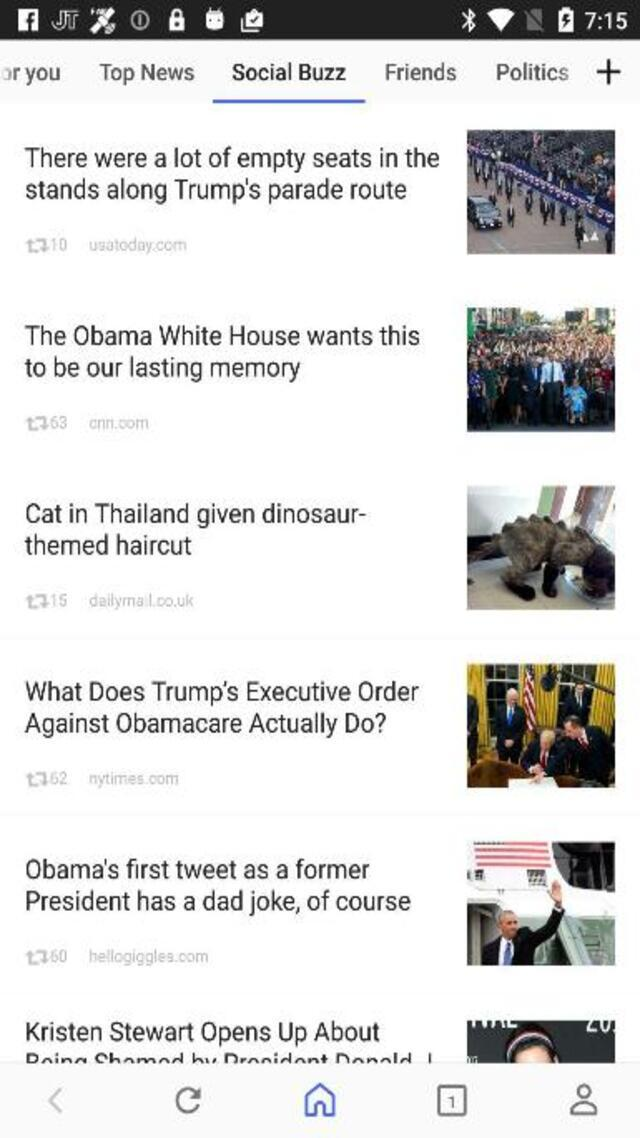Icon: (304, 1082, 334, 1116), (437, 1083, 467, 1115), (570, 1083, 597, 1115), (176, 1087, 200, 1114), (597, 59, 620, 84), (25, 593, 48, 609), (48, 1086, 62, 1112), (24, 238, 49, 252), (26, 949, 49, 964), (25, 416, 48, 430), (25, 772, 48, 786)
Image: (468, 308, 616, 432), (466, 130, 614, 254), (466, 842, 614, 965), (466, 664, 614, 787), (466, 486, 614, 609), (466, 1018, 614, 1062)
Text: (22, 174, 410, 211), (23, 885, 412, 921), (23, 708, 394, 743), (24, 1018, 433, 1048), (22, 144, 444, 172), (20, 678, 427, 706), (23, 322, 424, 350), (23, 500, 370, 530), (23, 352, 303, 386), (20, 856, 409, 880), (21, 532, 198, 562), (232, 61, 346, 81), (90, 948, 210, 966), (99, 64, 194, 85), (89, 592, 194, 610), (90, 238, 186, 254), (90, 771, 178, 787), (497, 62, 568, 80), (386, 62, 456, 80), (0, 66, 60, 87), (90, 418, 150, 428), (50, 592, 66, 606), (50, 949, 66, 961), (50, 771, 66, 783), (50, 416, 66, 428), (50, 238, 66, 250)
WS3: (25, 1051, 442, 1063)
